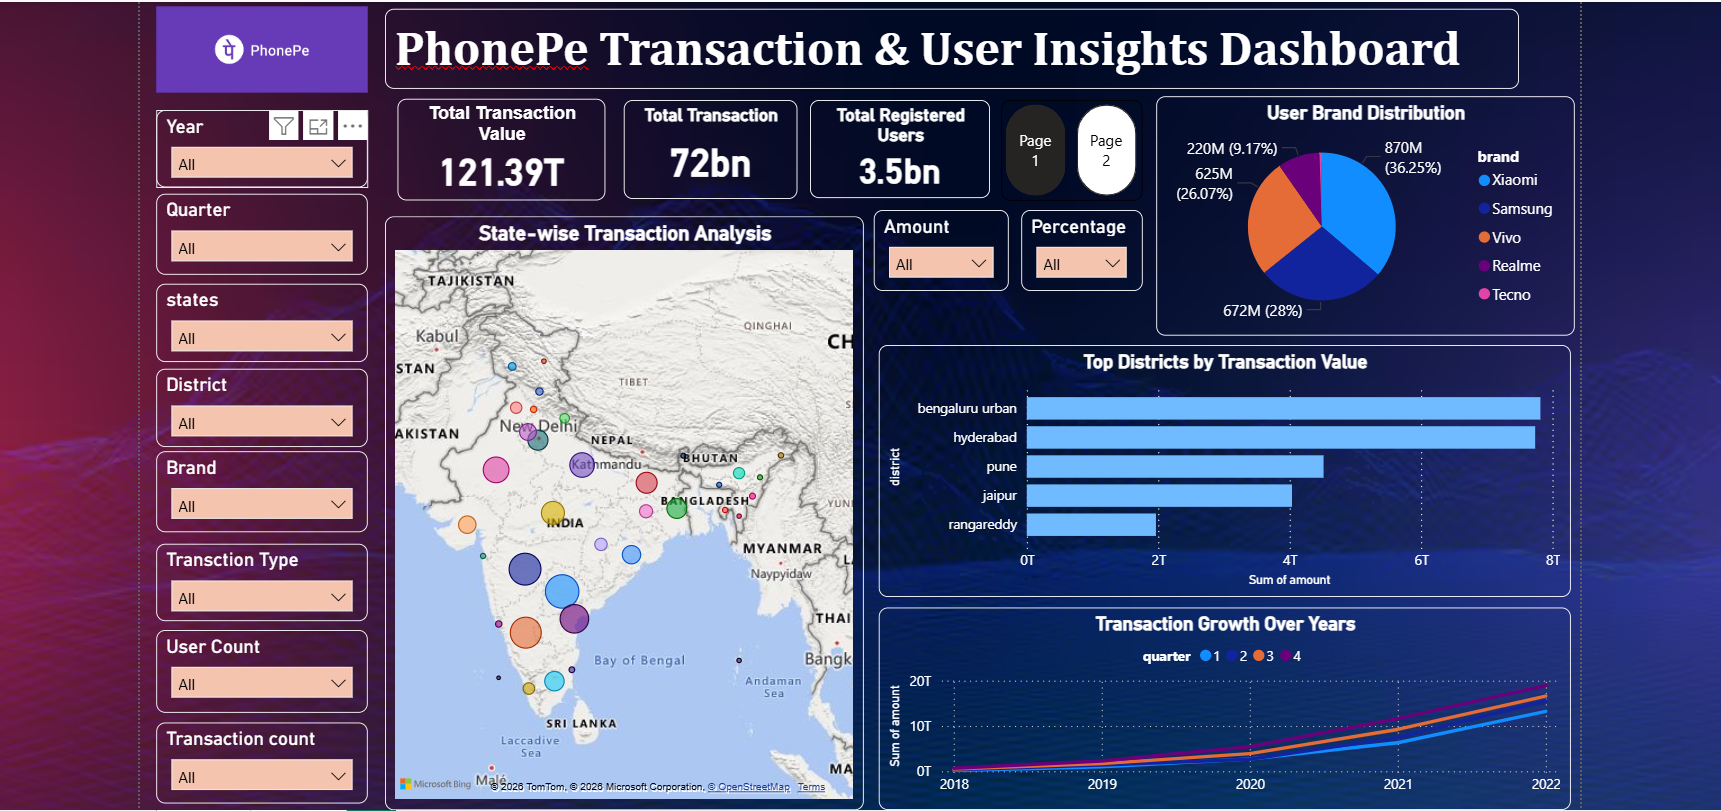

This screenshot's page, from the dashboard's own definition file:
{"tool":"powerbi","page":{"name":"Page 1","canvas":[1280,720],"ordinal":0},"visuals":[{"type":"map","title":"State-wise Transaction Analysis","fields":{"Category":["map_transaction.states"],"Series":["map_transaction.states"],"Size":["map_transaction.Total Amount"]},"box":[217.7,192,425.5,528.3],"z":0},{"type":"card","title":"Total  Transaction Value","fields":{"Values":["aggregated_transaction.Total_Transaction"]},"box":[228.7,88,184.6,90.5],"z":1000},{"type":"card","title":"Total Transaction Count","fields":{"Values":["Sum(aggregated_transaction.trans_counts)"]},"box":[430.6,89,152.2,87.9],"z":2000},{"type":"card","title":"Total Registered Users","fields":{"Values":["Sum(aggregated_user.user_counts)"]},"box":[595.5,89.3,160.2,86.8],"z":3000},{"type":"clusteredBarChart","title":"Top Districts by Transaction Value","fields":{"Category":["top_transaction.district"],"Y":["Sum(top_transaction.amount)"]},"box":[657.1,306.6,614.3,224.3],"z":4000},{"type":"lineChart","title":"Transaction Growth Over Years","fields":{"Category":["aggregated_transaction.year"],"Y":["Sum(aggregated_transaction.amount)"],"Series":["aggregated_transaction.quarter"]},"box":[656.7,540.5,615.1,179.8],"z":5000},{"type":"slicer","title":"Year","fields":{"Values":["Year_Table.year"]},"box":[14.7,97.8,188.3,68.5],"z":6000},{"type":"slicer","title":"states","fields":{"Values":["State_Table.states"]},"box":[14.7,251.9,188.3,69.7],"z":7000},{"type":"textbox","box":[217.7,7.3,1007.6,70.9],"z":8000},{"type":"image","box":[14.7,0,188.3,88],"z":9000},{"type":"slicer","title":"Quarter","fields":{"Values":["Quarter_Table.quarter"]},"box":[14.7,172.4,188.3,72.1],"z":10000},{"type":"slicer","title":"District","fields":{"Values":["map_transaction.district"]},"box":[14.7,327.7,188.3,69.7],"z":11000},{"type":"slicer","title":"Transction Type","fields":{"Values":["aggregated_transaction.trans_type"]},"box":[14.7,483,188.3,68.5],"z":12000},{"type":"slicer","title":"Brand","fields":{"Values":["aggregated_user.brand"]},"box":[14.7,401.1,188.3,72.1],"z":13000},{"type":"slicer","title":"User Count","fields":{"Values":["aggregated_user.user_counts"]},"box":[15.1,561.6,188.4,73.3],"z":14000},{"type":"pieChart","title":"User Brand Distribution","fields":{"Category":["aggregated_user.brand"],"Y":["Sum(aggregated_user.user_counts)"]},"box":[903.7,85.6,371.7,212.8],"z":15000},{"type":"slicer","title":"Transaction count","fields":{"Values":["aggregated_transaction.trans_counts"]},"box":[14.7,642,188.3,72.1],"z":16000},{"type":"slicer","title":"Amount","fields":{"Values":["aggregated_transaction.amount"]},"box":[651.8,187.1,119.8,72.1],"z":17000},{"type":"slicer","title":"Percentage","fields":{"Values":["aggregated_user.percentage"]},"box":[783.8,187.1,107.6,72.1],"z":18000},{"type":"pageNavigator","box":[765.5,89.3,126,89.3],"z":19000}]}

Visuals, with their boxes on the page's 1280x720 design canvas (x1, y1, x2, y2). These are canvas units, not pixel positions in the 1721x811 screenshot, which may show the page scaled, cropped or inside an application window:
"State-wise Transaction Analysis" map: locate(218, 192, 643, 720)
"Total  Transaction Value" card: locate(229, 88, 413, 178)
"Total Transaction Count" card: locate(431, 89, 583, 177)
"Total Registered Users" card: locate(596, 89, 756, 176)
"Top Districts by Transaction Value" clusteredBarChart: locate(657, 307, 1271, 531)
"Transaction Growth Over Years" lineChart: locate(657, 540, 1272, 720)
"Year" slicer: locate(15, 98, 203, 166)
"states" slicer: locate(15, 252, 203, 322)
textbox: locate(218, 7, 1225, 78)
image: locate(15, 0, 203, 88)
"Quarter" slicer: locate(15, 172, 203, 244)
"District" slicer: locate(15, 328, 203, 397)
"Transction Type" slicer: locate(15, 483, 203, 552)
"Brand" slicer: locate(15, 401, 203, 473)
"User Count" slicer: locate(15, 562, 204, 635)
"User Brand Distribution" pieChart: locate(904, 86, 1275, 298)
"Transaction count" slicer: locate(15, 642, 203, 714)
"Amount" slicer: locate(652, 187, 772, 259)
"Percentage" slicer: locate(784, 187, 891, 259)
pageNavigator: locate(766, 89, 892, 179)
